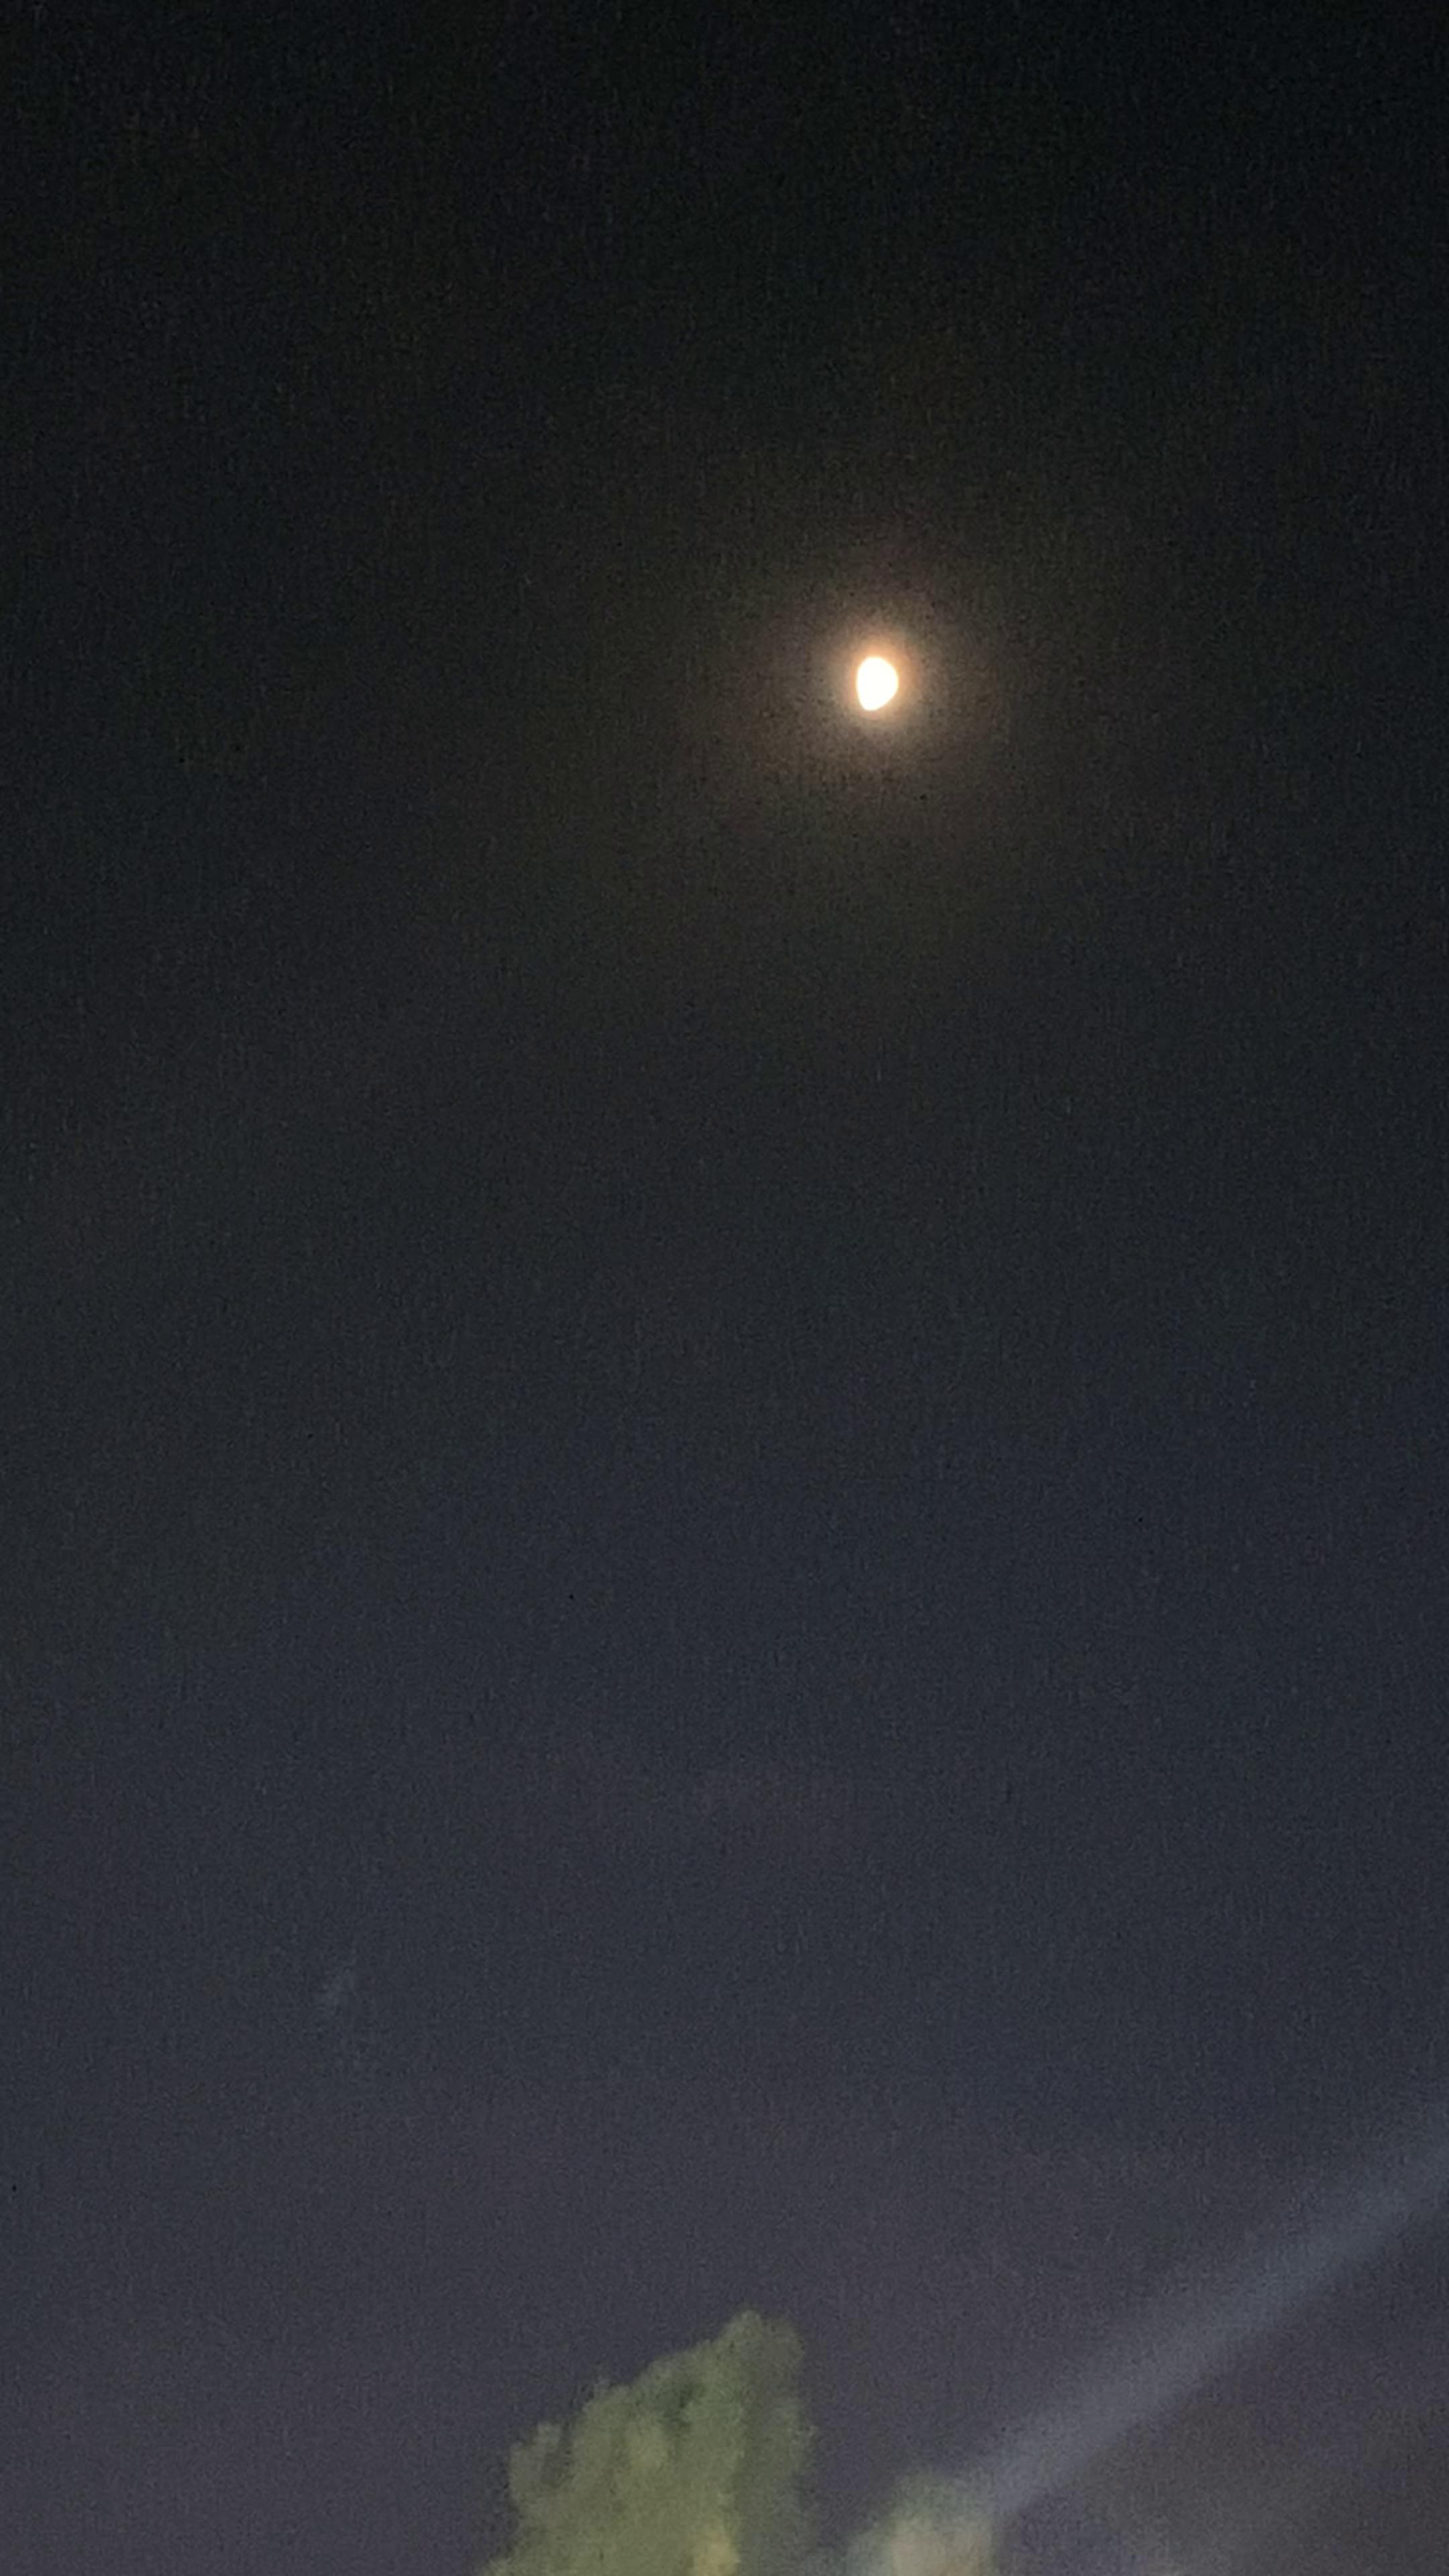moon: (824, 614, 941, 741)
